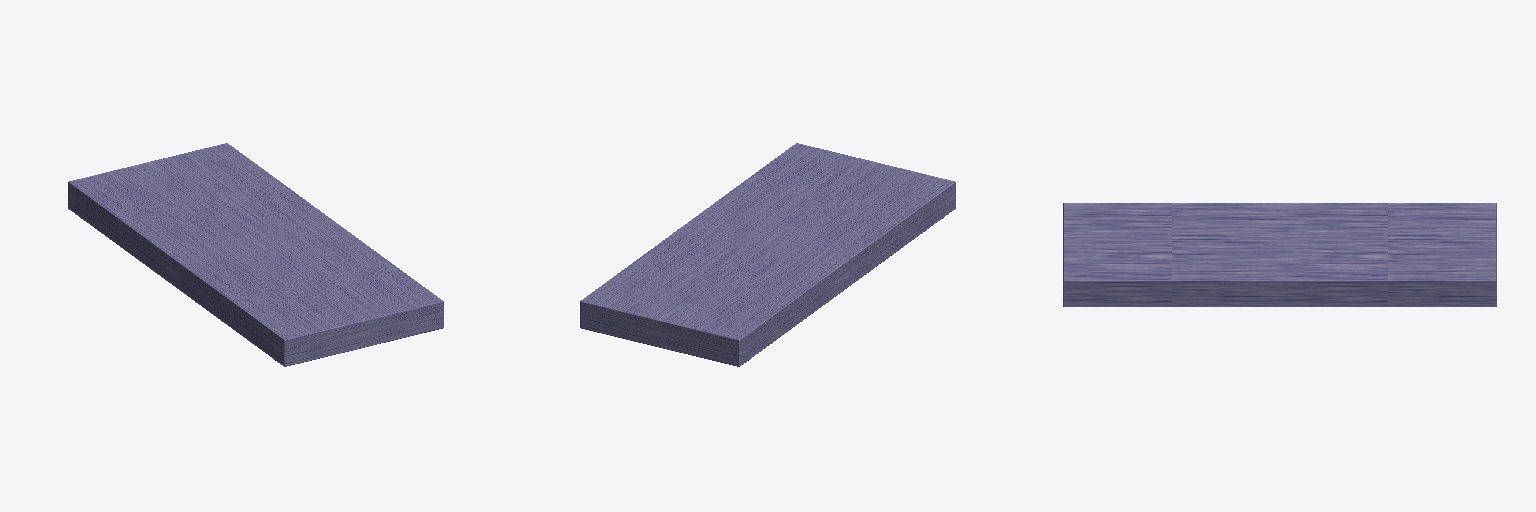
The picture shows the model from 3 angles: view 1: azimuth 30°, elevation 25°; view 2: azimuth 150°, elevation 25°; view 3: azimuth 270°, elevation 25°; orthographic projection.
Parts seen in each view (by area): view 1: pp52_stell; view 2: pp52_stell; view 3: pp52_stell.
Part boxes in pixels (x1,y1,x2,y2): pp52_stell: (68,143,443,366); pp52_stell: (580,143,955,366); pp52_stell: (1063,203,1496,306).
Size of the model in its own units: 85 by 15 by 200.
Materials: 2 (1 with a texture image).